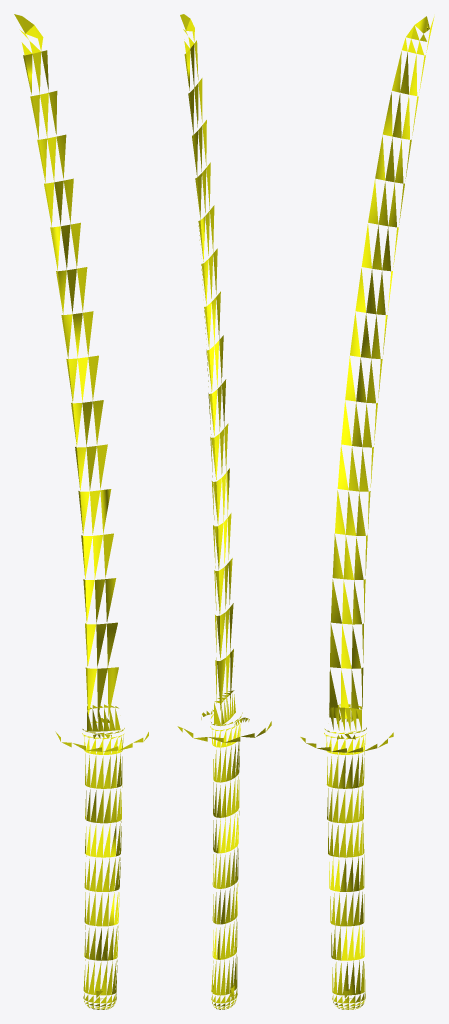
The model's file is katana.glb.
3 views of the same model, side by side, from view 1: azimuth 90°, elevation 25°; view 2: azimuth 150°, elevation 25°; view 3: azimuth 270°, elevation 25° (orthographic). The views are drawn at different scales.
Visible parts, largest first — view 1: Katana_LOD0; view 2: Katana_LOD0; view 3: Katana_LOD0.
Boxes of the visible parts, left/top/right/bottom form: Katana_LOD0: left=14, top=14, right=148, bottom=1009; Katana_LOD0: left=177, top=14, right=271, bottom=1009; Katana_LOD0: left=300, top=16, right=434, bottom=1009.
Size of what is drawn, in the model's own units: 8.18 by 97.22 by 11.98.
1 material, 1 textured.
